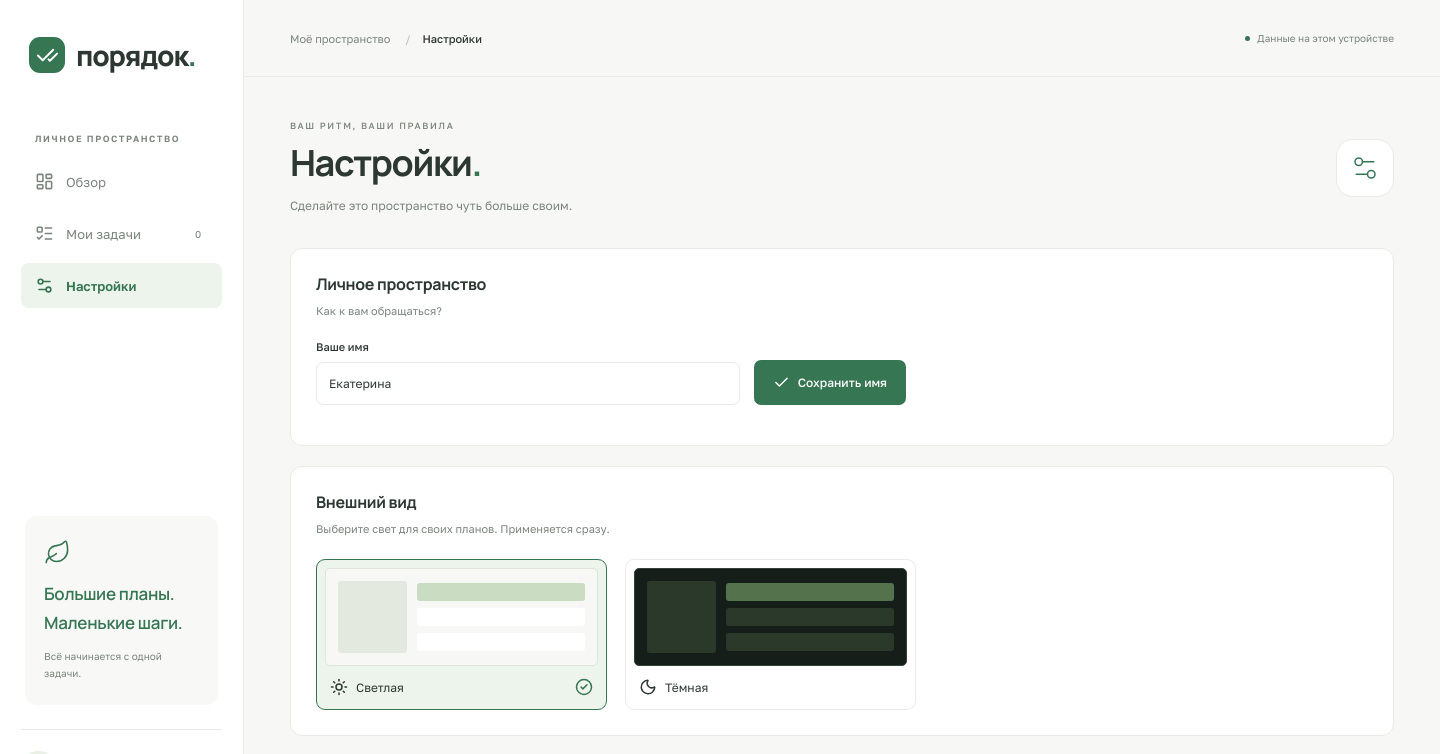
Test: применяет имя и тему на нескольких страницах
The width and height of the screenshot is (1440, 754).
Replace the text in the field labelled "Ваше имя" with "Анна". click: (528, 384)
box: [316,362,740,406]
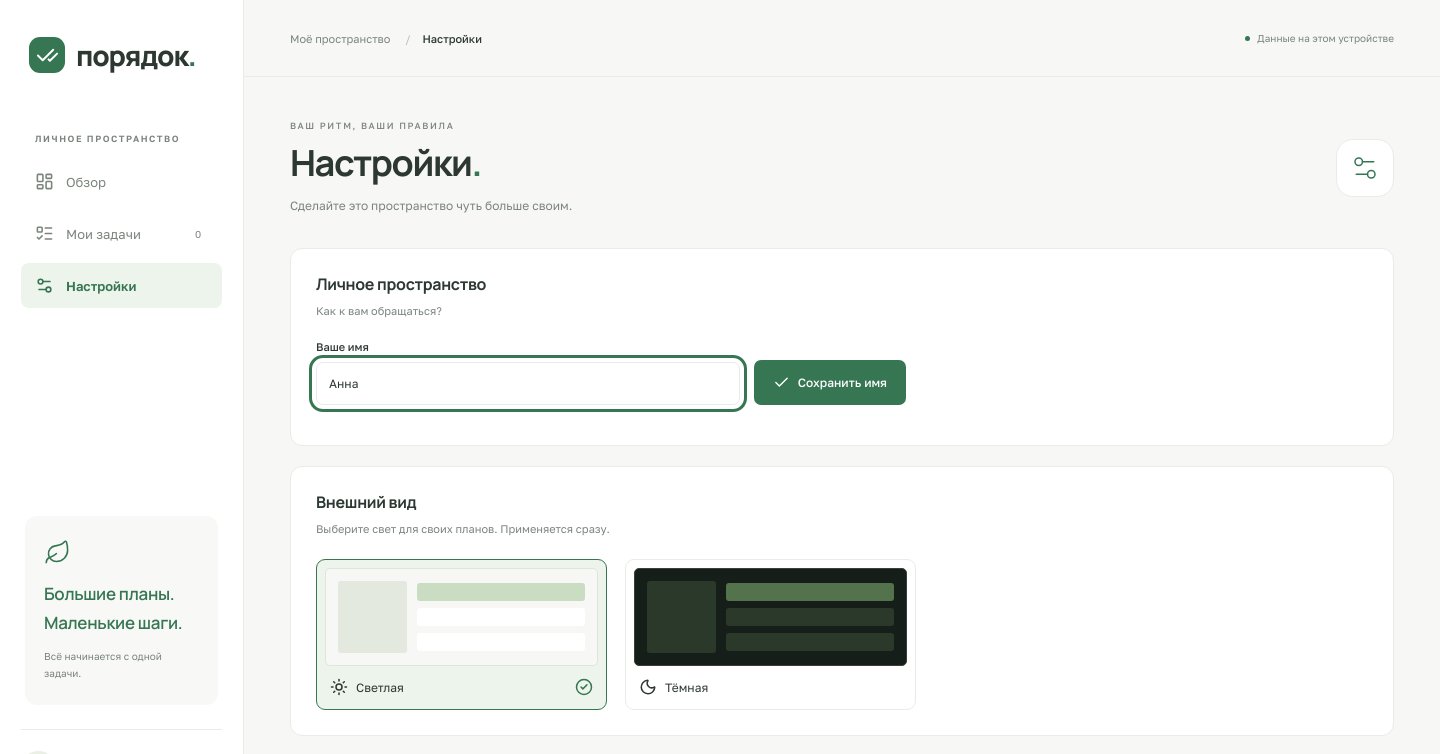
Click the button "Сохранить имя". click: (830, 383)
box: [754,360,906,406]
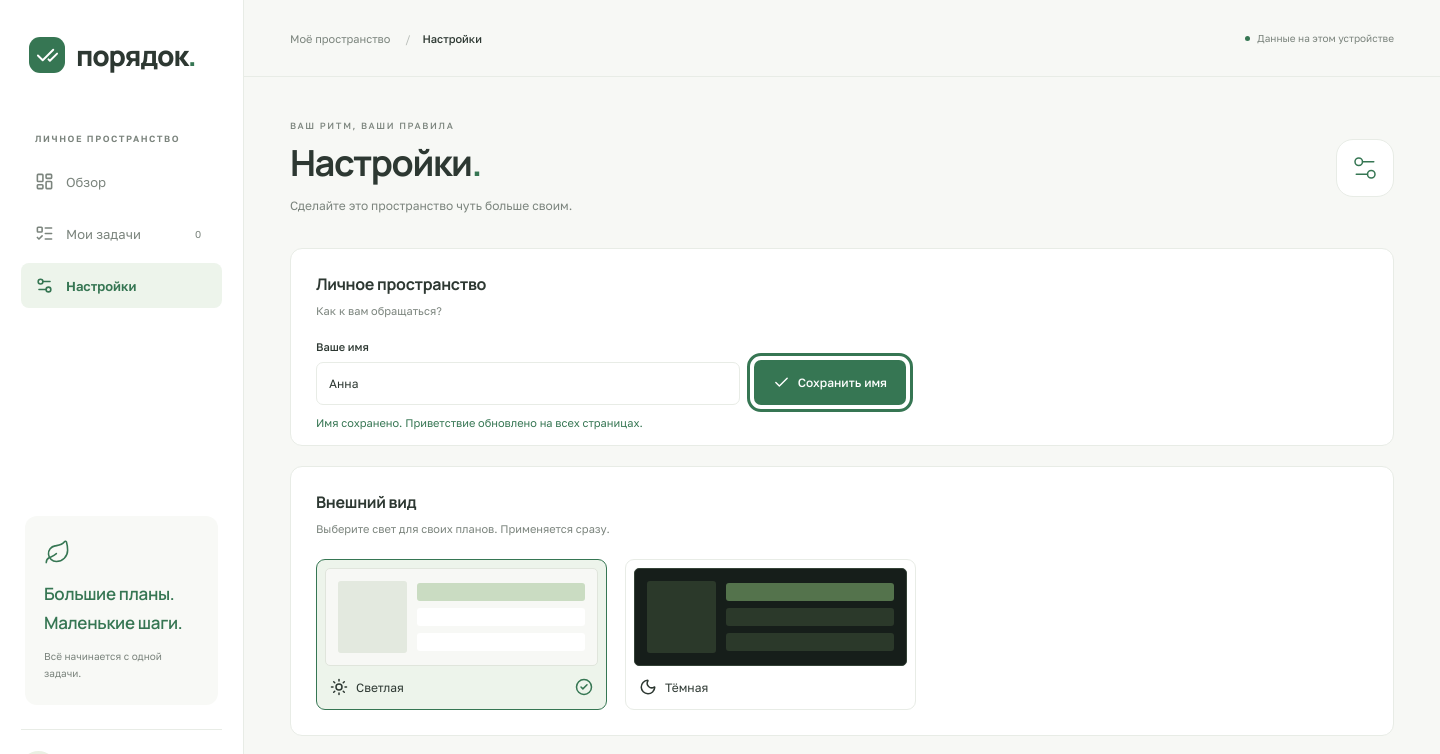
Click the button "Тёмная". click: (770, 635)
box: [625,559,916,710]
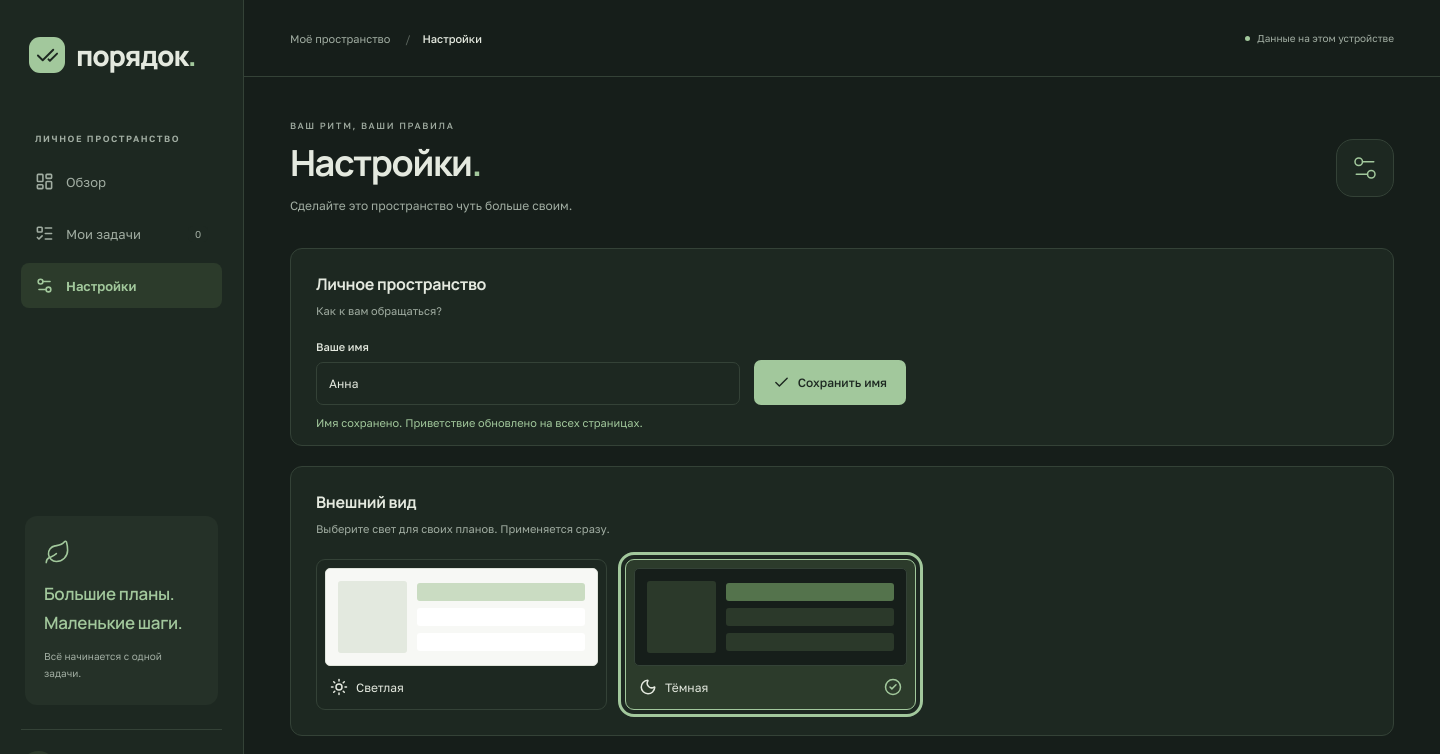
Click the link "Обзор". click: (70, 182)
box: [35,172,106,191]
(page scrolled)
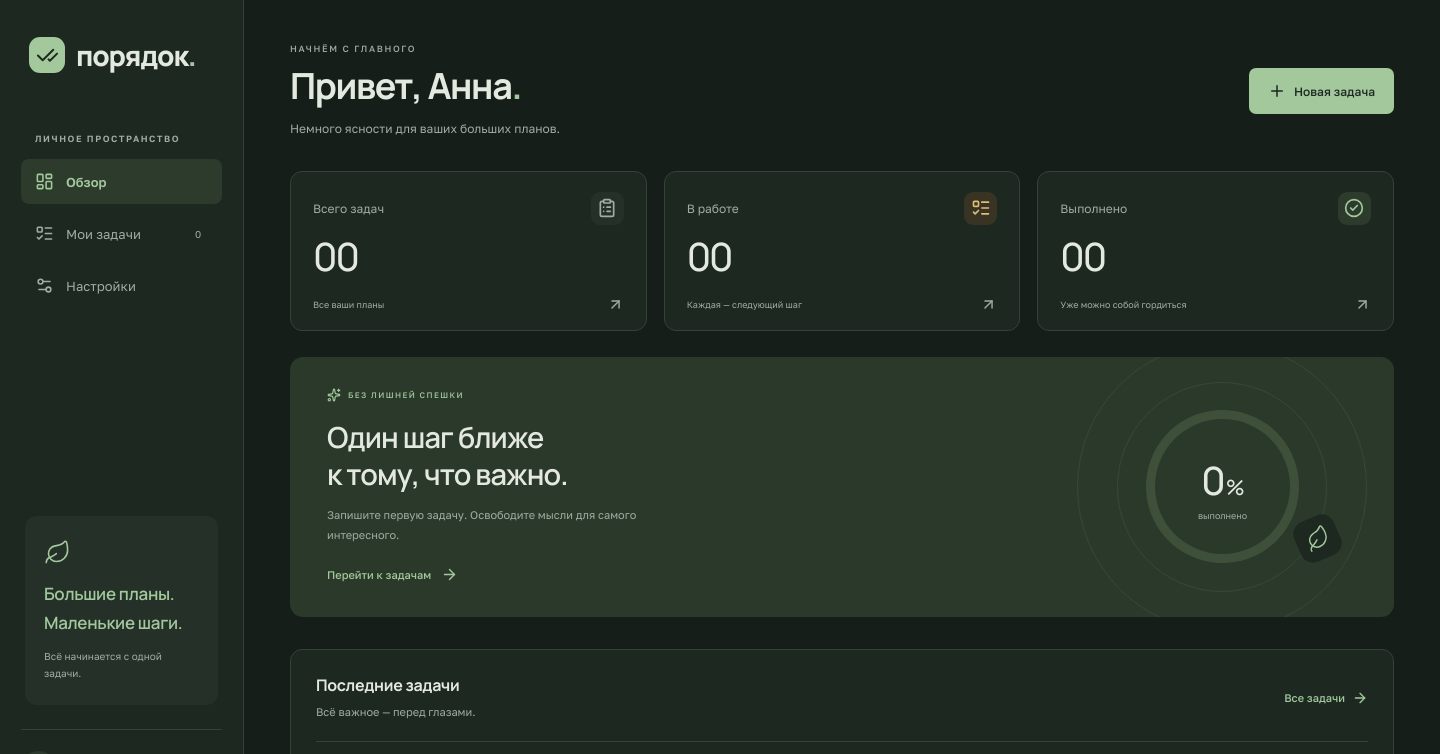
Now the heading "Привет, Анна." is shown, box [290,61,560,111]
